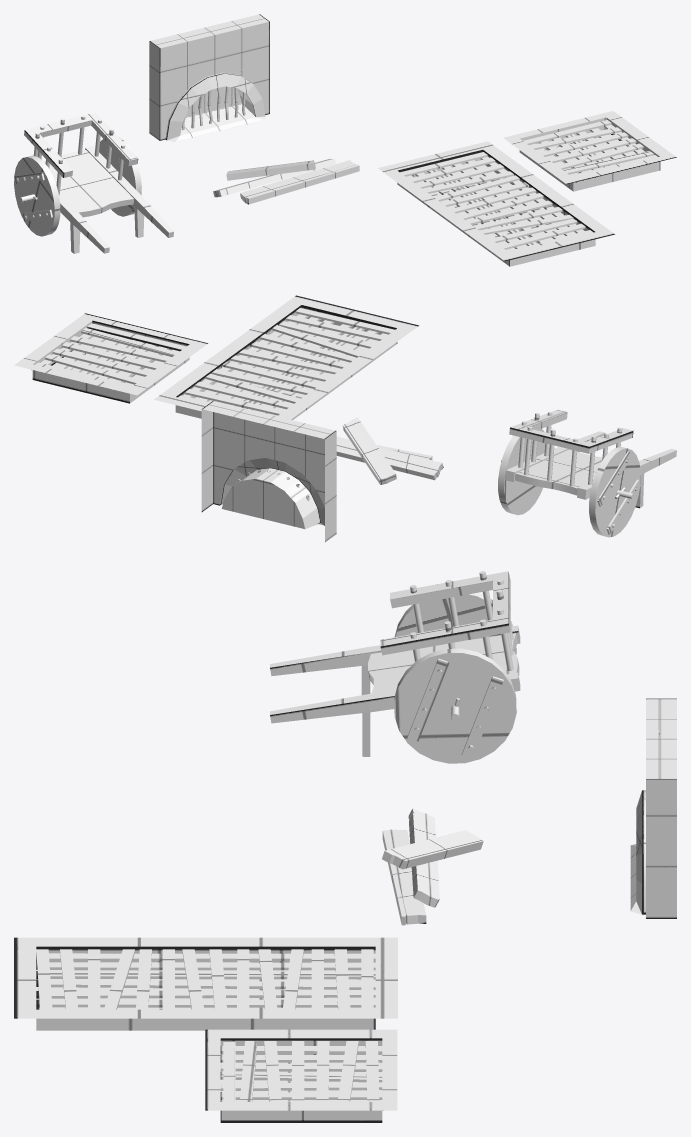
File: Wood, Floor, Drain, Cart.FBX
3 views of the same model, one above another, from view 1: azimuth 30°, elevation 25°; view 2: azimuth 150°, elevation 25°; view 3: azimuth 270°, elevation 25° (orthographic). The views are drawn at different scales.
Visible parts, largest first — view 1: simpleFloor001, Cylinder011, Box010, simpleFloor002, Box007; view 2: simpleFloor001, Cylinder011, Box010, simpleFloor002, Box007; view 3: simpleFloor001, Box010, simpleFloor002, Cylinder011, Box007.
Boxes of the visible parts, x1,y1,x2,y2 form: simpleFloor001: (378, 141, 614, 266); Cylinder011: (149, 14, 269, 141); Box010: (14, 112, 173, 253); simpleFloor002: (503, 111, 676, 191); Box007: (213, 158, 359, 204); simpleFloor001: (154, 295, 418, 419); Cylinder011: (201, 401, 336, 542); Box010: (498, 409, 676, 537); simpleFloor002: (14, 313, 207, 403); Box007: (336, 417, 443, 484); simpleFloor001: (14, 937, 397, 1030); Box010: (270, 571, 520, 763); simpleFloor002: (205, 1029, 397, 1122); Cylinder011: (630, 698, 676, 918); Box007: (382, 808, 483, 925).
Bounding box in the file's own units: 1298 × 232 × 863.
